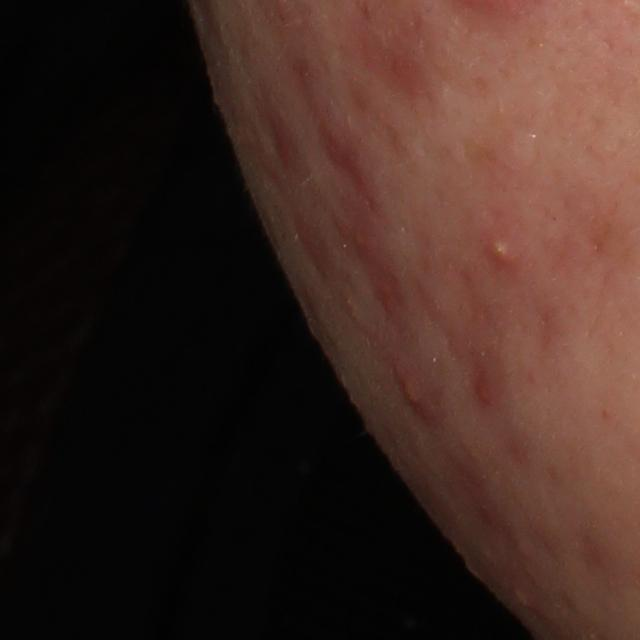papule: (351, 221, 380, 262)
pustule: (488, 233, 522, 274)
